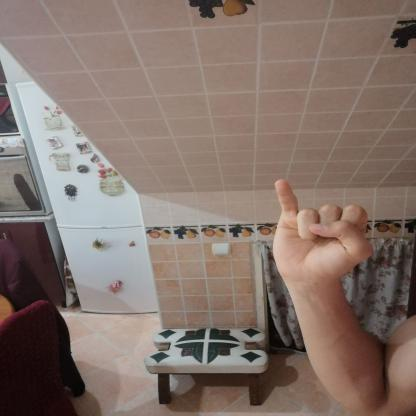MEEM: (257, 168, 387, 300)
